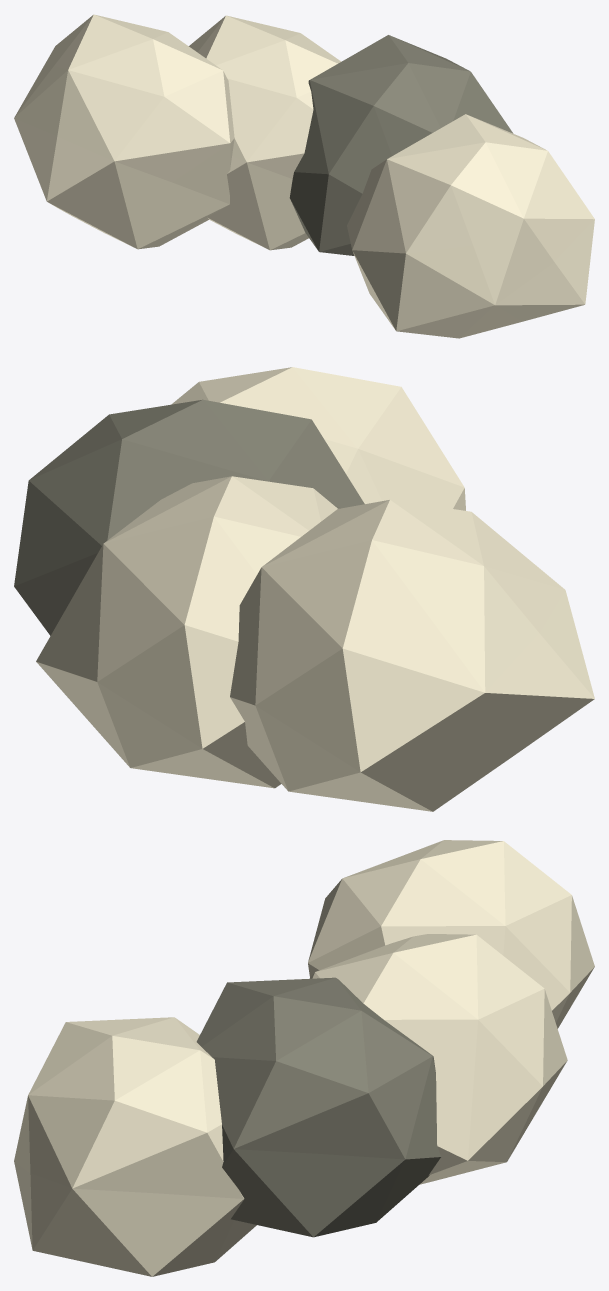
Rendered from cloud_4.FBX.
The picture shows the model from 3 angles, top to bottom: view 1: azimuth 30°, elevation 25°; view 2: azimuth 150°, elevation 25°; view 3: azimuth 270°, elevation 25°; orthographic projection. The views are drawn at different scales.
Visible parts, largest first — view 1: cloud_4; view 2: cloud_4; view 3: cloud_4.
Boxes of the visible parts, x1,y1,x2,y2 form: cloud_4: (14, 14, 594, 338); cloud_4: (14, 367, 594, 811); cloud_4: (14, 840, 594, 1276).
Bounding box in the file's own units: 952 × 557 × 993.
